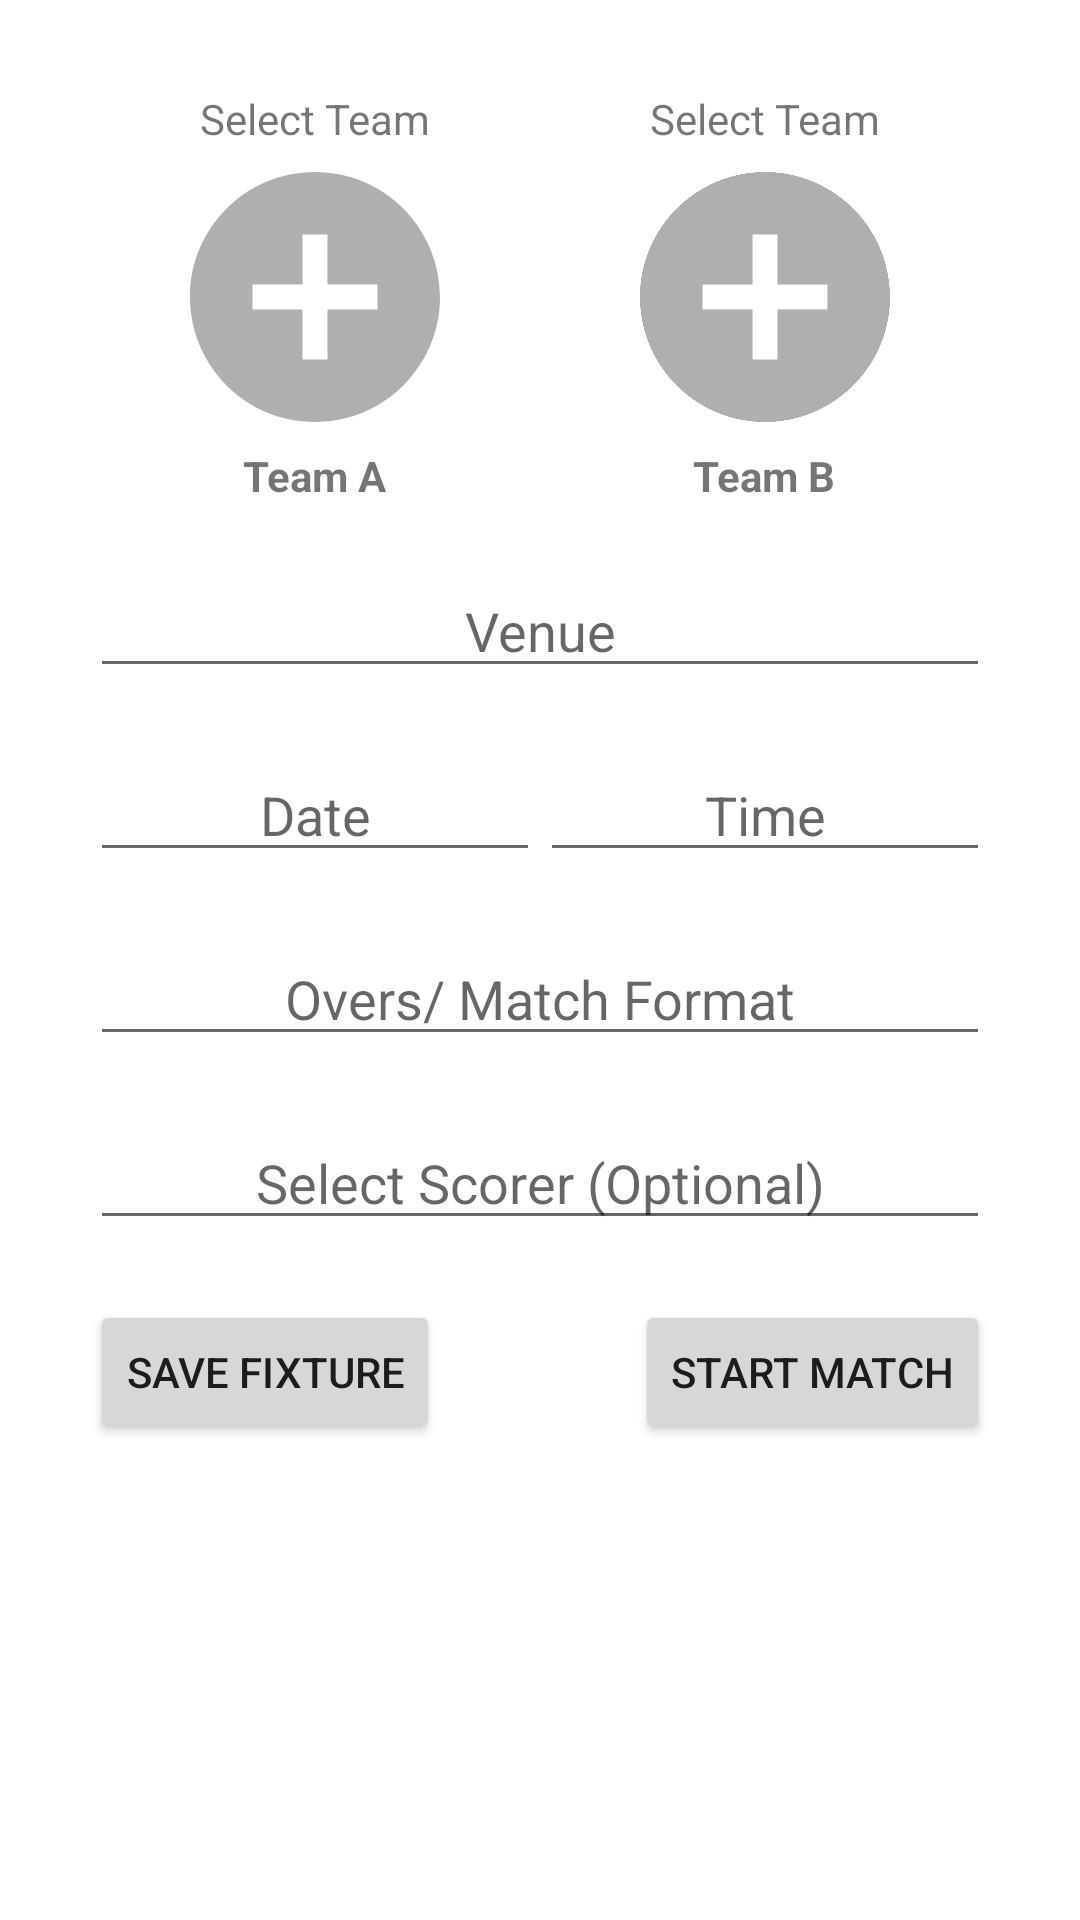

Icon click points for this 1080 x 1920 phone screenshot, format point (x, y):
add circle: point (315, 297), point (765, 297)
